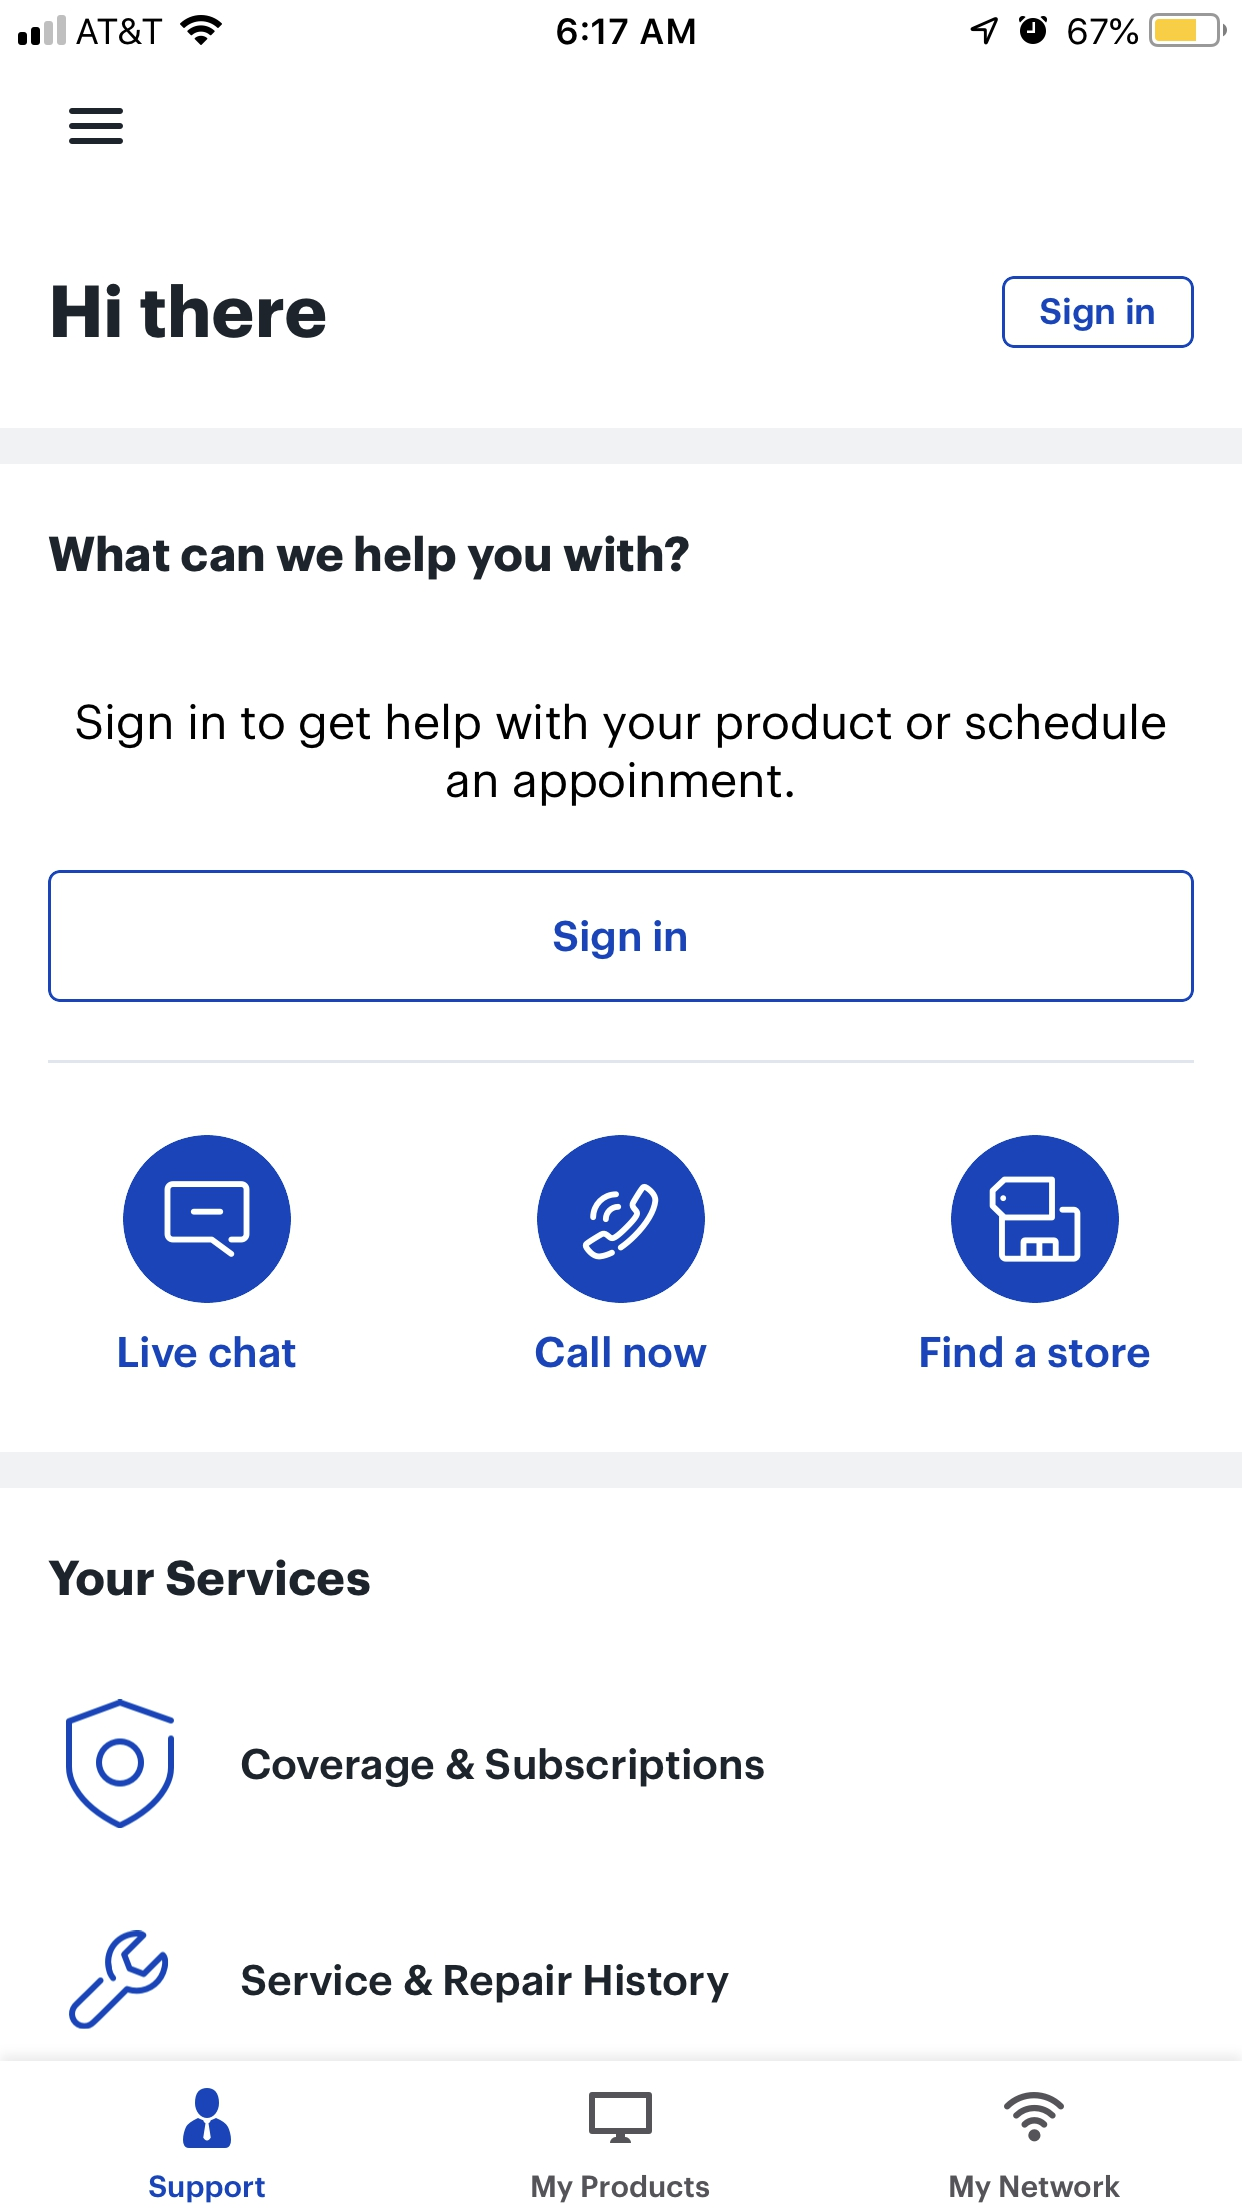Icon: (123, 1134, 293, 1304), (183, 2087, 232, 2149), (70, 108, 124, 146)
Image: (537, 1134, 707, 1304), (951, 1134, 1121, 1304), (67, 1698, 176, 1829), (70, 1929, 170, 2031), (588, 2093, 654, 2144), (1002, 2091, 1065, 2141)
Text: (76, 704, 1166, 807), (49, 534, 690, 582), (243, 1747, 764, 1788), (243, 1962, 729, 2003), (53, 284, 328, 340), (49, 1557, 372, 1597), (921, 1335, 1149, 1369), (118, 1335, 297, 1369), (535, 1335, 708, 1369), (949, 2173, 1121, 2203), (532, 2175, 710, 2203), (149, 2175, 265, 2203)
TextButton: (49, 869, 1195, 1002), (1002, 276, 1195, 350)
UpperTaskBar: (2, 2, 1242, 49)
